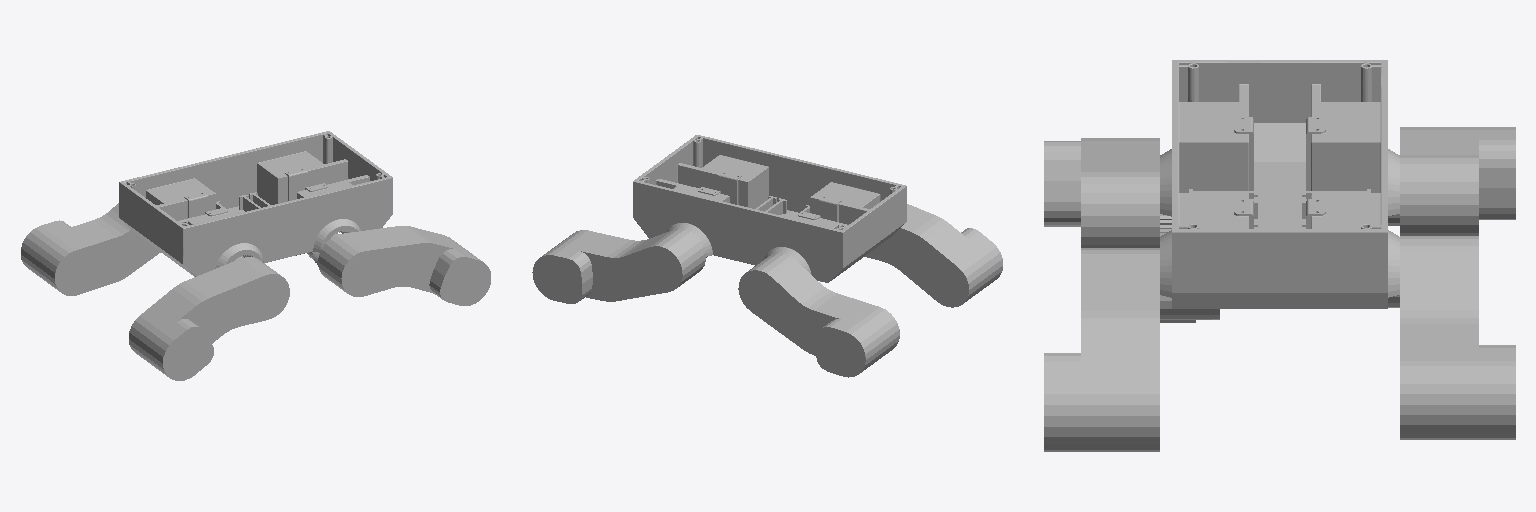
The robot description file, URDF, robot "updated_robot_lidar":
<?xml version="1.0" encoding="utf-8"?>
<!-- This URDF was automatically created by SolidWorks to URDF Exporter! Originally created by [author] ([email redacted]) 
     Commit Version: 1.6.0-4-g7f85cfe  Build Version: 1.6.7995.38578
     For more information, please see http://wiki.ros.org/sw_urdf_exporter -->
<robot
  name="updated_robot_lidar">
  <link
    name="base_link">
    <inertial>
      <origin
        xyz="0.00130991626705054 3.49863639695865E-08 -0.00547333121816359"
        rpy="0 0 0" />
      <mass
        value="0.84121706270277" />
      <inertia
        ixx="0.000471900739611814"
        ixy="-2.09182785151046E-08"
        ixz="-1.51956152423411E-05"
        iyy="0.00136894339262334"
        iyz="7.11926294463076E-07"
        izz="0.00158904161906431" />
    </inertial>
    <visual>
      <origin
        xyz="0 0 0"
        rpy="0 0 0" />
      <geometry>
        <mesh
          filename="package://updated_robot_lidar/meshes/base_link.STL" />
      </geometry>
      <material
        name="">
        <color
          rgba="0.752941176470588 0.752941176470588 0.752941176470588 1" />
      </material>
    </visual>
    <collision>
      <origin
        xyz="0 0 0"
        rpy="0 0 0" />
      <geometry>
        <mesh
          filename="package://updated_robot_lidar/meshes/base_link.STL" />
      </geometry>
    </collision>
  </link>
  <link
    name="front_right_wheel">
    <inertial>
      <origin
        xyz="-8.80747905163126E-12 -4.55740722937747E-11 -0.018857267595084"
        rpy="0 0 0" />
      <mass
        value="0.0169810669319342" />
      <inertia
        ixx="6.69284229296301E-06"
        ixy="-1.60145737122405E-14"
        ixz="-3.42445135960729E-14"
        iyy="6.69284232761491E-06"
        iyz="6.23321741967599E-15"
        izz="9.06807752001078E-06" />
    </inertial>
    <visual>
      <origin
        xyz="0 0 0"
        rpy="0 0 0" />
      <geometry>
        <mesh
          filename="package://updated_robot_lidar/meshes/front_right_wheel.STL" />
      </geometry>
      <material
        name="">
        <color
          rgba="1 1 1 1" />
      </material>
    </visual>
    <collision>
      <origin
        xyz="0 0 0"
        rpy="0 0 0" />
      <geometry>
        <mesh
          filename="package://updated_robot_lidar/meshes/front_right_wheel.STL" />
      </geometry>
    </collision>
  </link>
  <joint
    name="base_link_to_front_right_wheel"
    type="continuous">
    <origin
      xyz="0.11729 -0.127 -0.025435"
      rpy="1.5708 -1.5708 0" />
    <parent
      link="base_link" />
    <child
      link="front_right_wheel" />
    <axis
      xyz="0 0 -1" />
  </joint>
  <link
    name="front_left_wheel">
    <inertial>
      <origin
        xyz="-3.26679377993244E-11 -3.29753255950971E-11 -0.018857267595084"
        rpy="0 0 0" />
      <mass
        value="0.0169810669319342" />
      <inertia
        ixx="6.69284228887819E-06"
        ixy="9.91131170964902E-15"
        ixz="-2.49917727135713E-14"
        iyy="6.69284233169973E-06"
        iyz="2.4227068576367E-14"
        izz="9.06807752001078E-06" />
    </inertial>
    <visual>
      <origin
        xyz="0 0 0"
        rpy="0 0 0" />
      <geometry>
        <mesh
          filename="package://updated_robot_lidar/meshes/front_left_wheel.STL" />
      </geometry>
      <material
        name="">
        <color
          rgba="1 1 1 1" />
      </material>
    </visual>
    <collision>
      <origin
        xyz="0 0 0"
        rpy="0 0 0" />
      <geometry>
        <mesh
          filename="package://updated_robot_lidar/meshes/front_left_wheel.STL" />
      </geometry>
    </collision>
  </link>
  <joint
    name="base_link_to_front_left_wheel"
    type="continuous">
    <origin
      xyz="0.11886 0.127 -0.019032"
      rpy="1.5708 0 3.1416" />
    <parent
      link="base_link" />
    <child
      link="front_left_wheel" />
    <axis
      xyz="0 0 -1" />
  </joint>
  <link
    name="bottom_right_wheel">
    <inertial>
      <origin
        xyz="2.91839469257482E-11 -3.60952205624709E-11 -0.018857267595084"
        rpy="0 0 0" />
      <mass
        value="0.0169810669319343" />
      <inertia
        ixx="6.69284232901609E-06"
        ixy="-1.43509531586576E-14"
        ixz="-2.68277878076326E-14"
        iyy="6.69284229156184E-06"
        iyz="-2.21767763364345E-14"
        izz="9.06807752001078E-06" />
    </inertial>
    <visual>
      <origin
        xyz="0 0 0"
        rpy="0 0 0" />
      <geometry>
        <mesh
          filename="package://updated_robot_lidar/meshes/bottom_right_wheel.STL" />
      </geometry>
      <material
        name="">
        <color
          rgba="1 1 1 1" />
      </material>
    </visual>
    <collision>
      <origin
        xyz="0 0 0"
        rpy="0 0 0" />
      <geometry>
        <mesh
          filename="package://updated_robot_lidar/meshes/bottom_right_wheel.STL" />
      </geometry>
    </collision>
  </link>
  <joint
    name="base_link_bottom_right_wheel"
    type="continuous">
    <origin
      xyz="-0.11353 -0.127 -0.029416"
      rpy="1.5708 0 0" />
    <parent
      link="base_link" />
    <child
      link="bottom_right_wheel" />
    <axis
      xyz="0 0 -1" />
  </joint>
  <link
    name="bottom_left_wheel">
    <inertial>
      <origin
        xyz="-1.02049202421739E-11 4.52816447532589E-11 -0.0188572675950841"
        rpy="0 0 0" />
      <mass
        value="0.0169810669319342" />
      <inertia
        ixx="6.69284231029886E-06"
        ixy="-2.35935358708808E-14"
        ixz="3.3870511857625E-14"
        iyy="6.69284231027905E-06"
        iyz="8.02048062727773E-15"
        izz="9.06807752001078E-06" />
    </inertial>
    <visual>
      <origin
        xyz="0 0 0"
        rpy="0 0 0" />
      <geometry>
        <mesh
          filename="package://updated_robot_lidar/meshes/bottom_left_wheel.STL" />
      </geometry>
      <material
        name="">
        <color
          rgba="1 1 1 1" />
      </material>
    </visual>
    <collision>
      <origin
        xyz="0 0 0"
        rpy="0 0 0" />
      <geometry>
        <mesh
          filename="package://updated_robot_lidar/meshes/bottom_left_wheel.STL" />
      </geometry>
    </collision>
  </link>
  <joint
    name="base_link_to_bottom_left_wheel"
    type="continuous">
    <origin
      xyz="-0.11544 0.127 -0.023104"
      rpy="1.5708 0 3.1416" />
    <parent
      link="base_link" />
    <child
      link="bottom_left_wheel" />
    <axis
      xyz="0 0 -1" />
  </joint>
  <link
    name="right_tread">
    <inertial>
      <origin
        xyz="-0.00948575511995705 -0.0271678464476261 0"
        rpy="0 0 0" />
      <mass
        value="0.0467186064325547" />
      <inertia
        ixx="5.36340024147205E-06"
        ixy="-8.04600395062881E-10"
        ixz="6.04919270559359E-23"
        iyy="5.40913175843456E-06"
        iyz="-4.12094412978236E-22"
        izz="1.12903298878672E-07" />
    </inertial>
    <visual>
      <origin
        xyz="0 0 0"
        rpy="0 0 0" />
      <geometry>
        <mesh
          filename="package://updated_robot_lidar/meshes/right_tread.STL" />
      </geometry>
      <material
        name="">
        <color
          rgba="0.298039215686275 0.298039215686275 0.298039215686275 1" />
      </material>
    </visual>
    <collision>
      <origin
        xyz="0 0 0"
        rpy="0 0 0" />
      <geometry>
        <mesh
          filename="package://updated_robot_lidar/meshes/right_tread.STL" />
      </geometry>
    </collision>
  </link>
  <joint
    name="base_link_right_tread"
    type="fixed">
    <origin
      xyz="0.0092938 -0.1065 -0.00029628"
      rpy="1.5708 0 0" />
    <parent
      link="base_link" />
    <child
      link="right_tread" />
    <axis
      xyz="0 0 0" />
  </joint>
  <link
    name="left_tread">
    <inertial>
      <origin
        xyz="0.00948575511995705 -0.0271678464476261 6.93889390390723E-17"
        rpy="0 0 0" />
      <mass
        value="0.0467186064325548" />
      <inertia
        ixx="5.36340024147206E-06"
        ixy="8.04600395063012E-10"
        ixz="7.96129525865092E-23"
        iyy="5.40913175843456E-06"
        iyz="5.69745896060528E-22"
        izz="1.12903298878675E-07" />
    </inertial>
    <visual>
      <origin
        xyz="0 0 0"
        rpy="0 0 0" />
      <geometry>
        <mesh
          filename="package://updated_robot_lidar/meshes/left_tread.STL" />
      </geometry>
      <material
        name="">
        <color
          rgba="0.298039215686275 0.298039215686275 0.298039215686275 1" />
      </material>
    </visual>
    <collision>
      <origin
        xyz="0 0 0"
        rpy="0 0 0" />
      <geometry>
        <mesh
          filename="package://updated_robot_lidar/meshes/left_tread.STL" />
      </geometry>
    </collision>
  </link>

  
  <joint
    name="base_link_to_left_tread"
    type="fixed">
    <origin
      xyz="0.010862 0.1065 0.0061069"
      rpy="1.5708 0 3.1416" />
    <parent
      link="base_link" />
    <child
      link="left_tread" />
    <axis
      xyz="0 0 0" />
  </joint>
  <link
    name="lidar_link">
    <inertial>
      <origin
        xyz="-0.00372960354653325 -0.0104601551405394 -0.0357219296342546"
        rpy="0 0 0" />
      <mass
        value="0.0941041819406961" />
      <inertia
        ixx="4.13309590863897E-05"
        ixy="-6.41491214388595E-06"
        ixz="-1.18593756606677E-06"
        iyy="3.09799040445324E-05"
        iyz="-1.72021949332005E-08"
        izz="6.94264258391456E-05" />
    </inertial>
    <visual>
      <origin
        xyz="0 0 0"
        rpy="0 0 0" />
      <geometry>
        <mesh
          filename="package://updated_robot_lidar/meshes/lidar_link.STL" />
      </geometry>
      <material
        name="">
        <color
          rgba="0.792156862745098 0.819607843137255 0.933333333333333 1" />
      </material>
    </visual>
    <collision>
      <origin
        xyz="0 0 0"
        rpy="0 0 0" />
      <geometry>
        <mesh
          filename="package://updated_robot_lidar/meshes/lidar_link.STL" />
      </geometry>
    </collision>
  </link>

  <joint
    name="base_link_to_lidar_link"
    type="fixed">
    <origin
      xyz="-0.044901 0.0003607 0.094632"
      rpy="0 0.048079 2.0209" />
    <parent
      link="base_link" />
    <child
      link="lidar_link" />
    <axis
      xyz="0 0 0" />
  </joint>

</robot>

--- Render facts (derived) ---
3 views of the same robot in one strip: view 1: azimuth 30°, elevation 25°; view 2: azimuth 150°, elevation 25°; view 3: azimuth 270°, elevation 25° (orthographic).
Model updated_robot_lidar with 8 links and 7 joints (4 continuous, 3 fixed), rooted at base_link, posed all joints at 0.
Links seen in each view (by area): view 1: base_link; view 2: base_link; view 3: base_link.
Boxes of the visible links, box(x1,y1,x2,y2) form: base_link: box(21, 131, 490, 380); base_link: box(532, 135, 1002, 377); base_link: box(1044, 60, 1515, 451).
Size in the robot's own frame: 0.2693 by 0.196 by 0.0889 metres.
Meshes: 8 distinct files referenced, 1 mesh visuals loaded (1 binary STL); not drawn: 7 (reference not matched to a file when rendering).